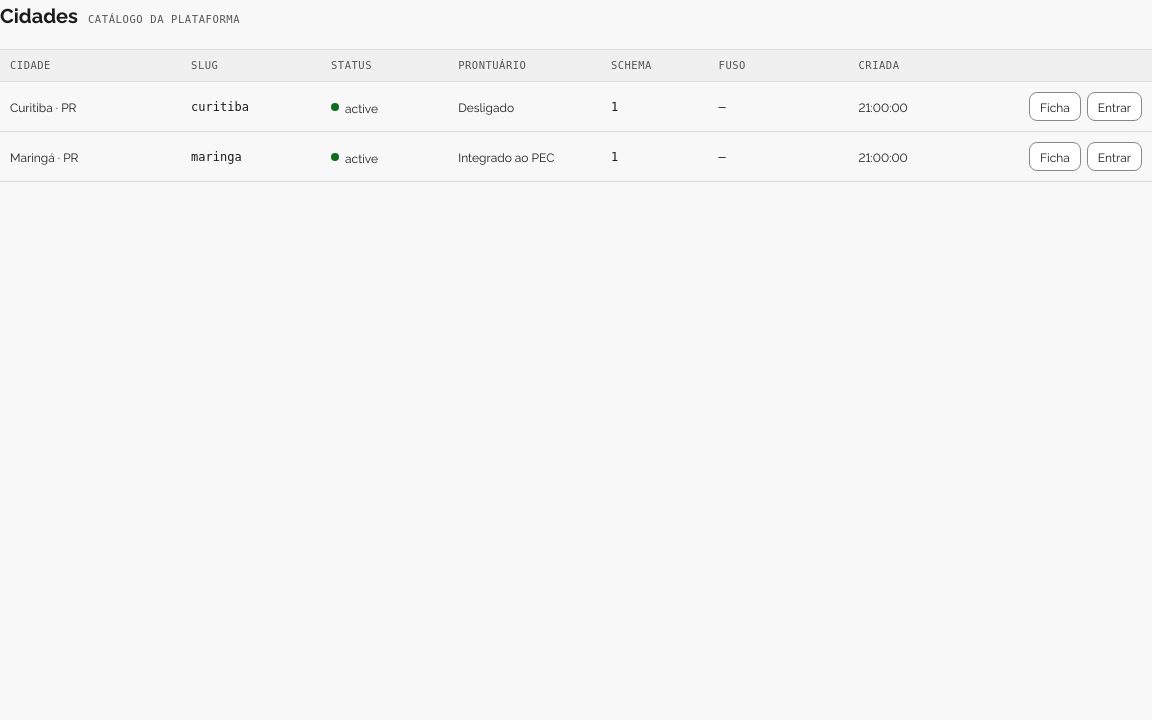
it: City record (read-only switches) › enabled but not usable says what is still missing
Click the button with aria-label "Ficha de Curitiba": (1055,107) [1029, 92, 1081, 121]
(page scrolled)
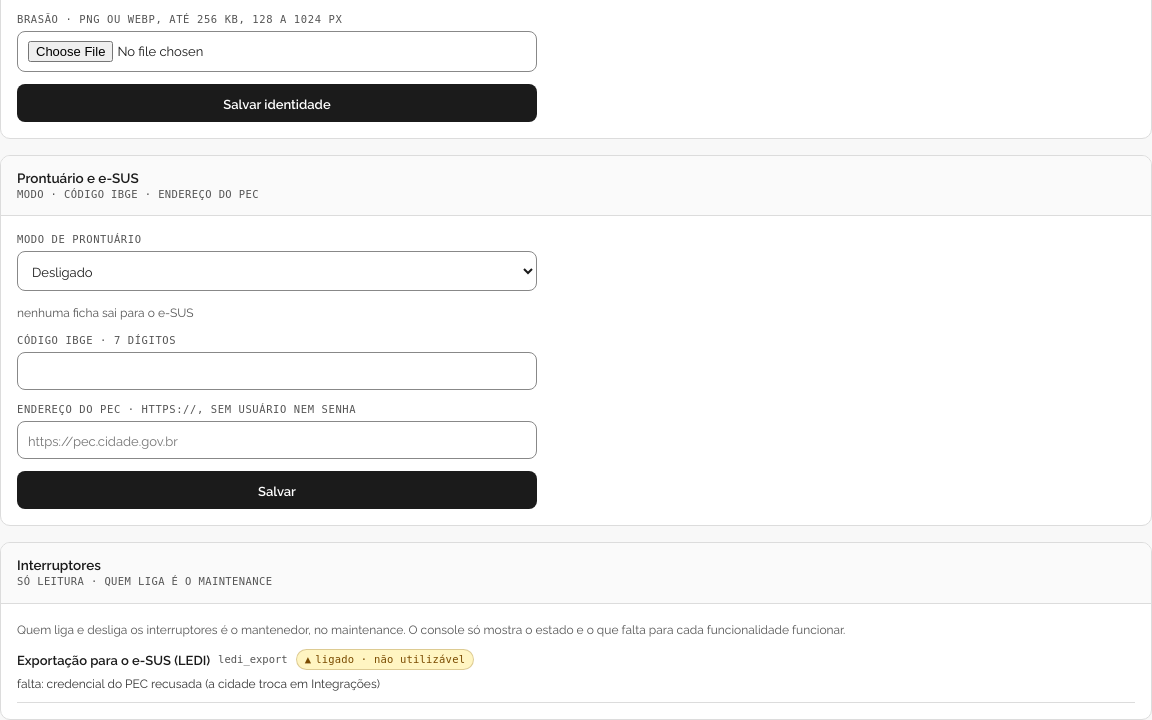
Expected: the list item "Exportação para o e-SUS (LEDI)" shows "ligado · não utilizável", [315, 653, 465, 665]
Expected: the list item "Exportação para o e-SUS (LEDI)" shows "credencial do PEC recusada (a cidade troca em Integrações)", [17, 674, 380, 691]
